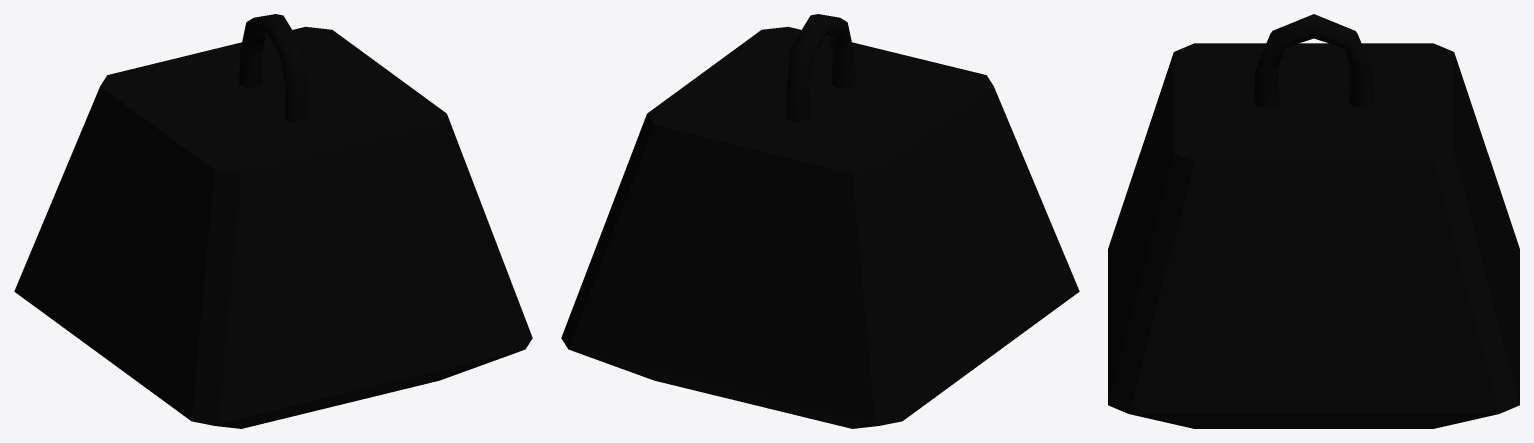
Rendered from Weight.fbx.
The picture shows the model from 3 angles, left to right: view 1: azimuth 30°, elevation 25°; view 2: azimuth 150°, elevation 25°; view 3: azimuth 270°, elevation 25°; orthographic projection. The views are drawn at different scales.
Visible parts, largest first — view 1: Cube; view 2: Cube; view 3: Cube.
Boxes of the visible parts, x1,y1,x2,y2 form: Cube: [14, 14, 532, 428]; Cube: [561, 14, 1079, 428]; Cube: [1108, 14, 1519, 428].
Bounding box in the file's own units: 144 × 138 × 144.
